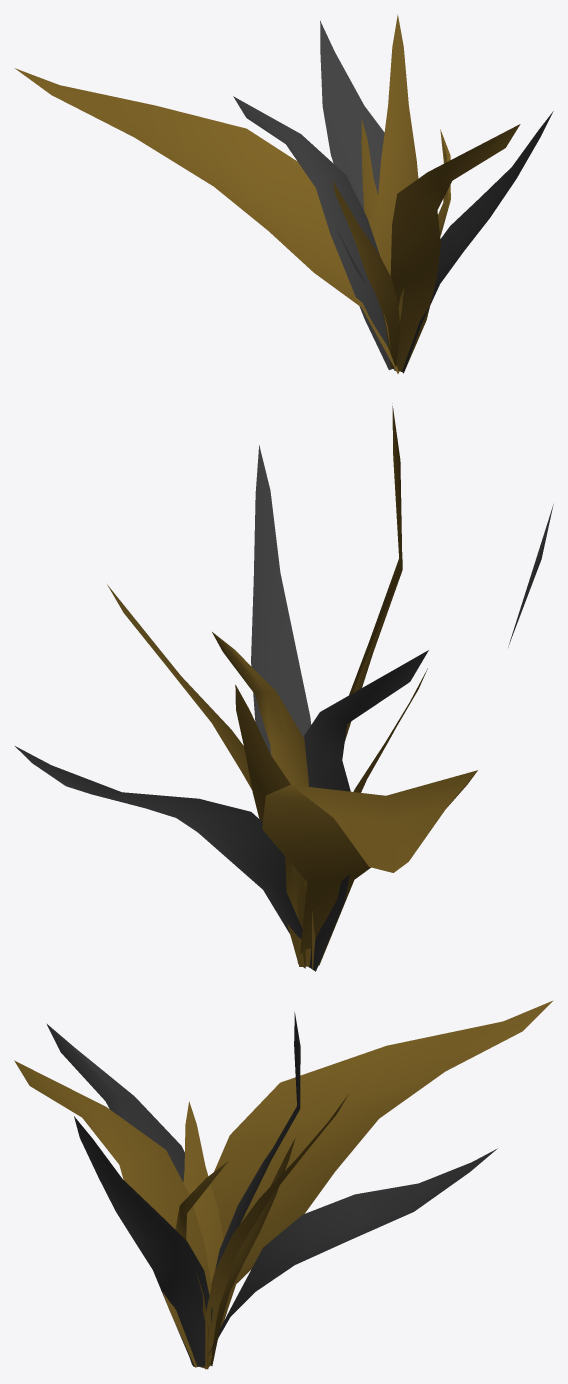
File: DeadSeaweed.glb
3 views of the same model, one above another, from view 1: azimuth 30°, elevation 25°; view 2: azimuth 150°, elevation 25°; view 3: azimuth 270°, elevation 25° (orthographic). The views are drawn at different scales.
Parts seen in each view (by area): view 1: leaf 3.006, 3.008, 3.004, leaf 3.008, 3.007, 3.005, 3.011, 3.009, 3.010; view 2: leaf 3.006, leaf 3.008, 3.005, 3.004, 3.010, 3.009, 3.007, 3.008; view 3: leaf 3.006, leaf 3.008, 3.008, 3.005, 3.006, 3.011, 3.007, 3.004, 3.009, 3.010.
Boxes of the visible parts, <box> form: leaf 3.006: <box>14,68,399,373</box>; 3.008: <box>390,124,520,372</box>; 3.004: <box>233,96,392,369</box>; leaf 3.008: <box>320,20,395,370</box>; 3.007: <box>377,14,418,275</box>; 3.005: <box>402,111,553,373</box>; 3.011: <box>332,180,400,369</box>; 3.009: <box>361,118,390,349</box>; 3.010: <box>398,129,450,321</box>; leaf 3.006: <box>262,770,477,965</box>; leaf 3.008: <box>15,746,310,948</box>; 3.005: <box>251,445,311,754</box>; 3.004: <box>304,650,428,971</box>; 3.010: <box>212,632,308,963</box>; 3.009: <box>235,684,311,966</box>; 3.007: <box>107,584,305,968</box>; 3.008: <box>310,403,402,949</box>; leaf 3.006: <box>199,1000,553,1369</box>; leaf 3.008: <box>201,1148,497,1367</box>; 3.008: <box>14,1060,211,1367</box>; 3.005: <box>74,1116,212,1366</box>; 3.006: <box>46,1023,192,1365</box>; 3.011: <box>183,1101,223,1284</box>; 3.007: <box>205,1094,348,1369</box>; 3.004: <box>215,1012,300,1269</box>; 3.009: <box>210,1138,295,1365</box>; 3.010: <box>175,1161,228,1367</box>.
Bounding box in the file's own units: 8.54 × 7.89 × 11.88.
